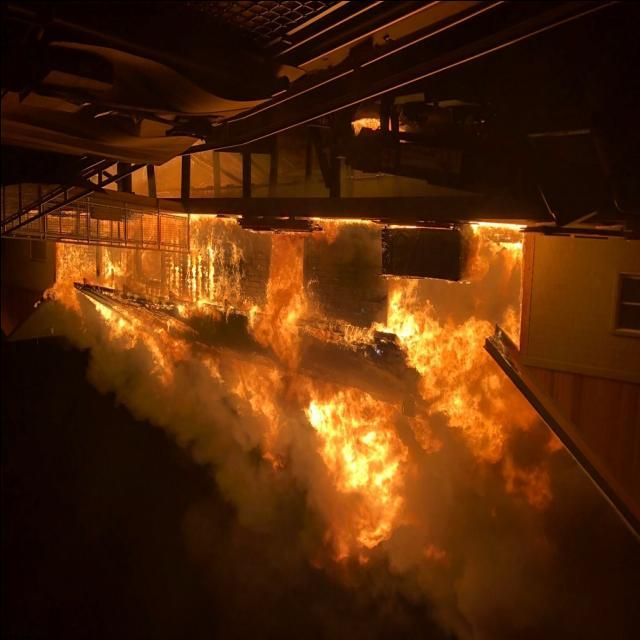Fire: (43, 218, 553, 566)
